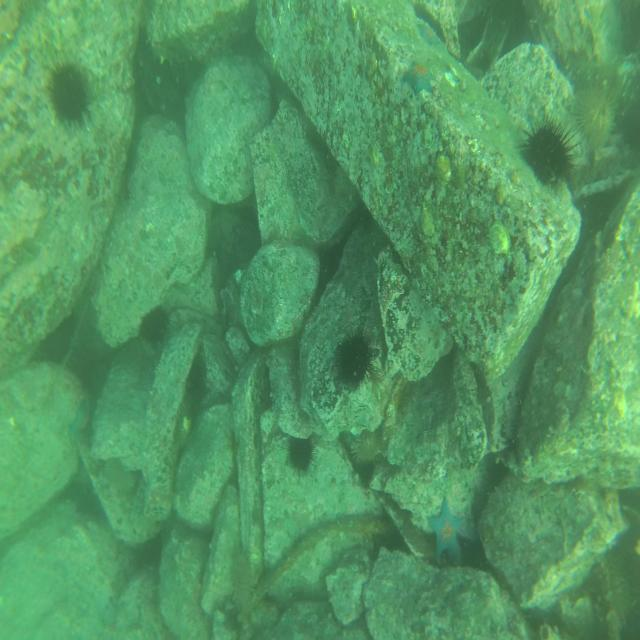echinus: (524, 127, 574, 185), (578, 87, 616, 144), (51, 65, 88, 123), (337, 333, 371, 384), (288, 434, 317, 476), (140, 306, 168, 346)
starfish: (426, 497, 470, 568), (403, 57, 435, 96), (417, 18, 442, 49)
